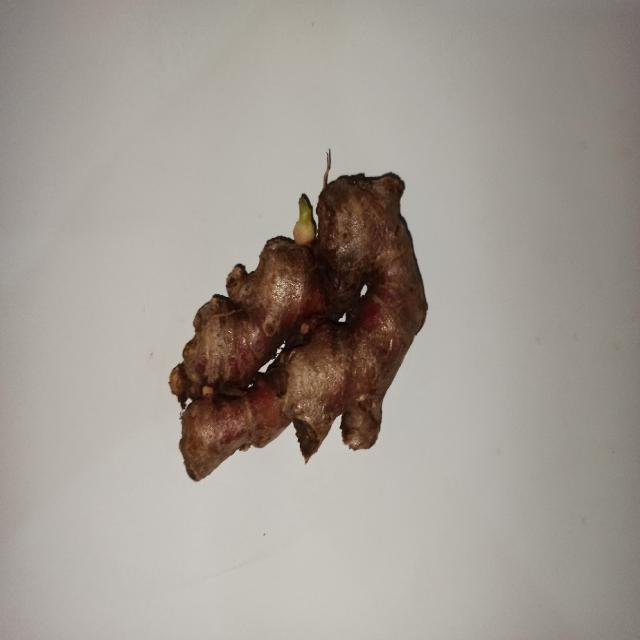ginger: (175, 174, 426, 482)
